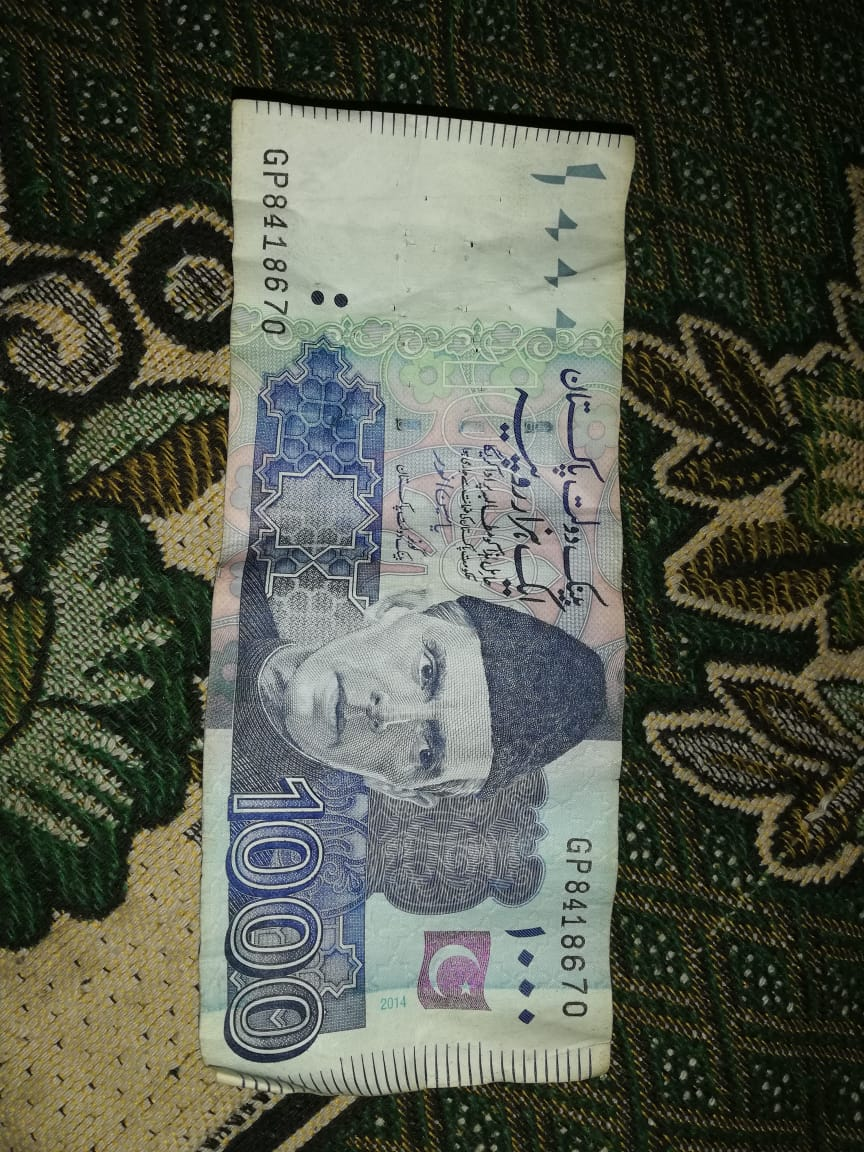1000 rupee: (165, 74, 650, 1098)
